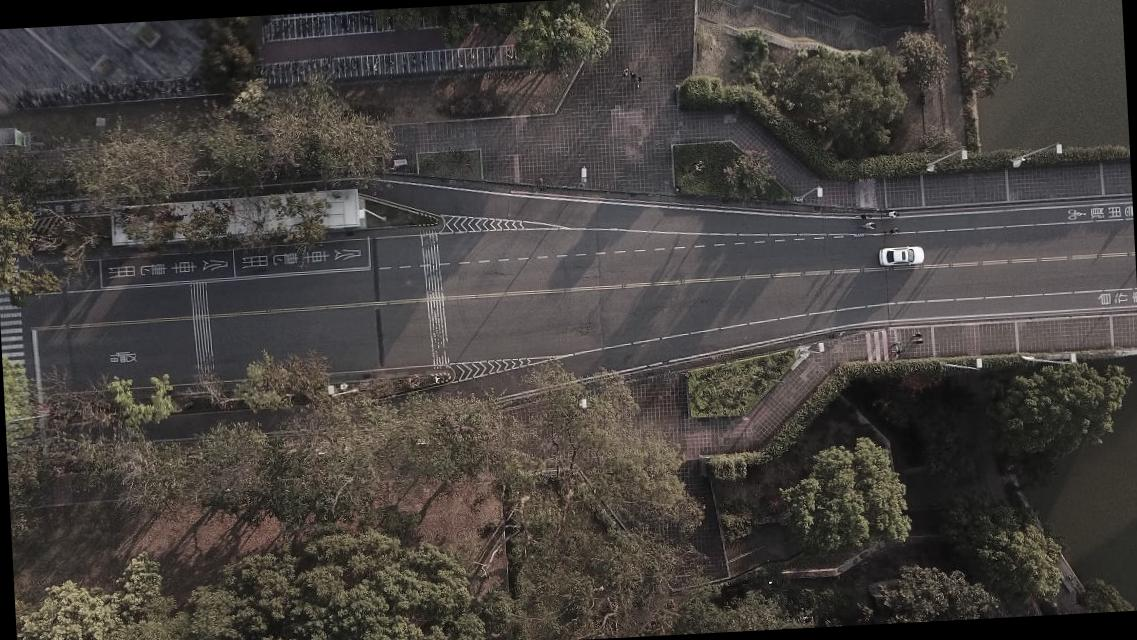vehicle: (878, 246, 924, 266)
